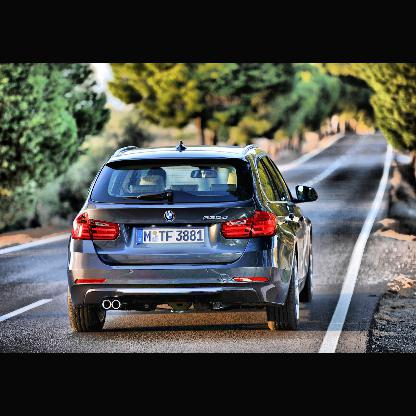BMW 3 Series Wagon 2012: (68, 146, 316, 333)
